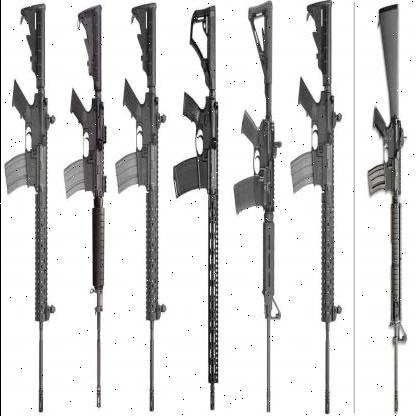rifle: (280, 0, 345, 415), (1, 0, 59, 415), (112, 0, 169, 415), (169, 0, 226, 415), (355, 0, 408, 413), (61, 0, 113, 415), (235, 0, 278, 415)
